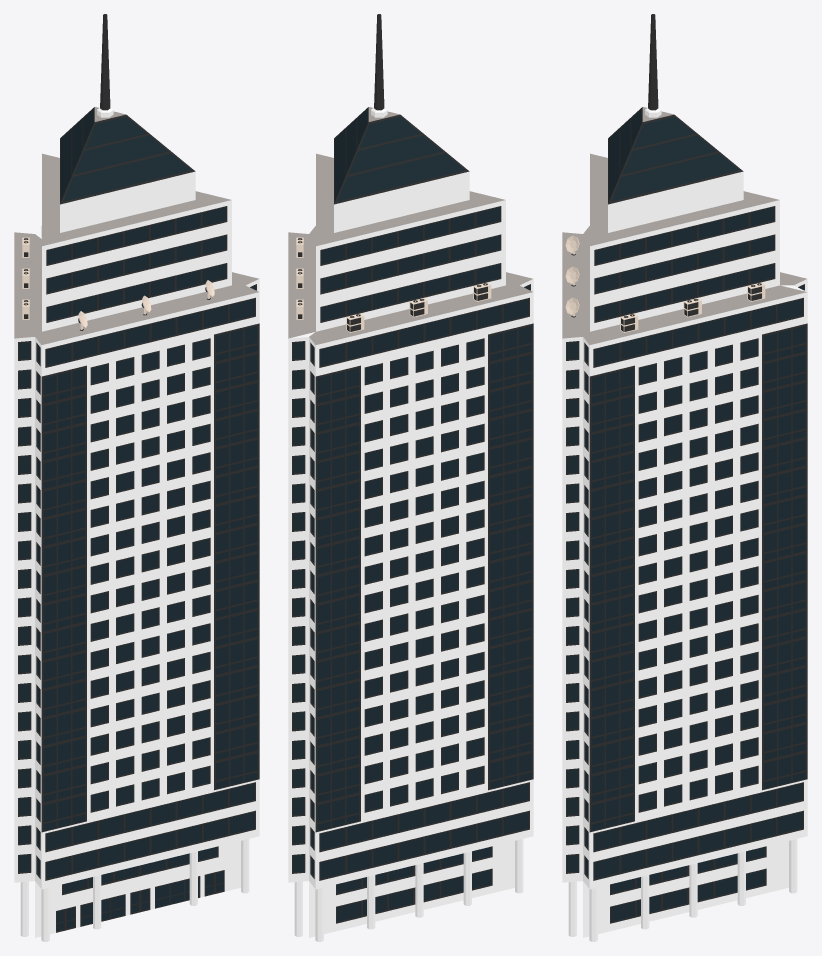
File: building-skyscraper.glb
The picture shows the model from 3 angles, left to right: view 1: azimuth 30°, elevation 25°; view 2: azimuth 150°, elevation 25°; view 3: azimuth 270°, elevation 25°; orthographic projection.
Visible parts, largest first — view 1: building-skyscraper; view 2: building-skyscraper; view 3: building-skyscraper.
Boxes of the visible parts, x1,y1,x2,y2 form: building-skyscraper: [14, 14, 259, 941]; building-skyscraper: [288, 14, 533, 941]; building-skyscraper: [562, 14, 807, 941].
Bounding box in the file's own units: 27 × 91.8 × 23.38.
1 material, 1 textured.
